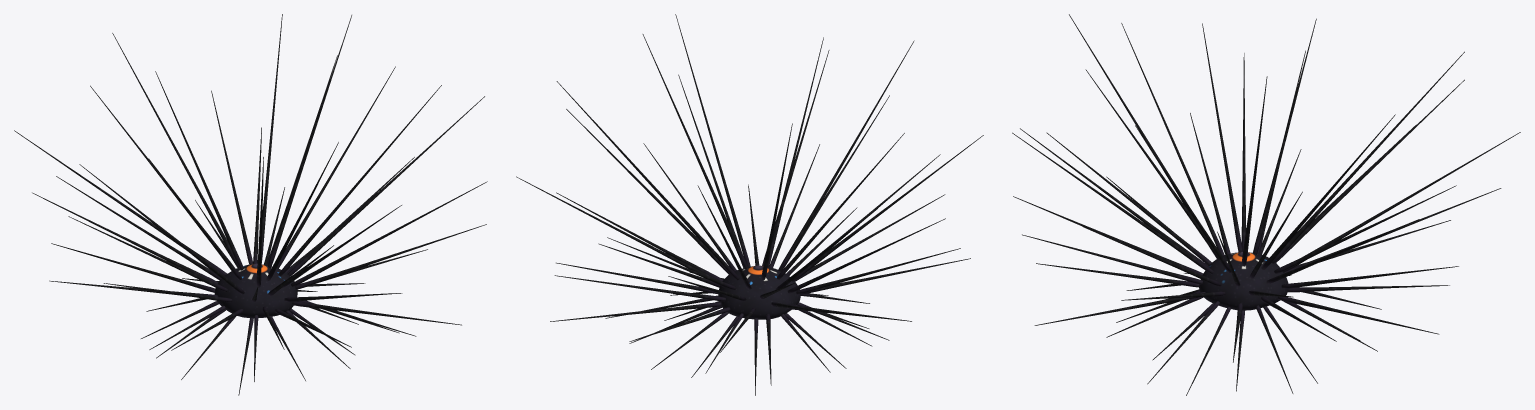
Rendered from SeaUrchin.gltf.
3 views of the same model, side by side, from view 1: azimuth 30°, elevation 25°; view 2: azimuth 150°, elevation 25°; view 3: azimuth 270°, elevation 25° (orthographic). The views are drawn at different scales.
Visible parts, largest first — view 1: SeaUrchin; view 2: SeaUrchin; view 3: SeaUrchin.
Part boxes in pixels (x1,y1,x2,y2): SeaUrchin: (14,14,487,395); SeaUrchin: (516,14,983,395); SeaUrchin: (1012,14,1520,395).
Bounding box in the file's own units: 0.3933 × 0.2768 × 0.3995.
2 materials, 2 textured.
